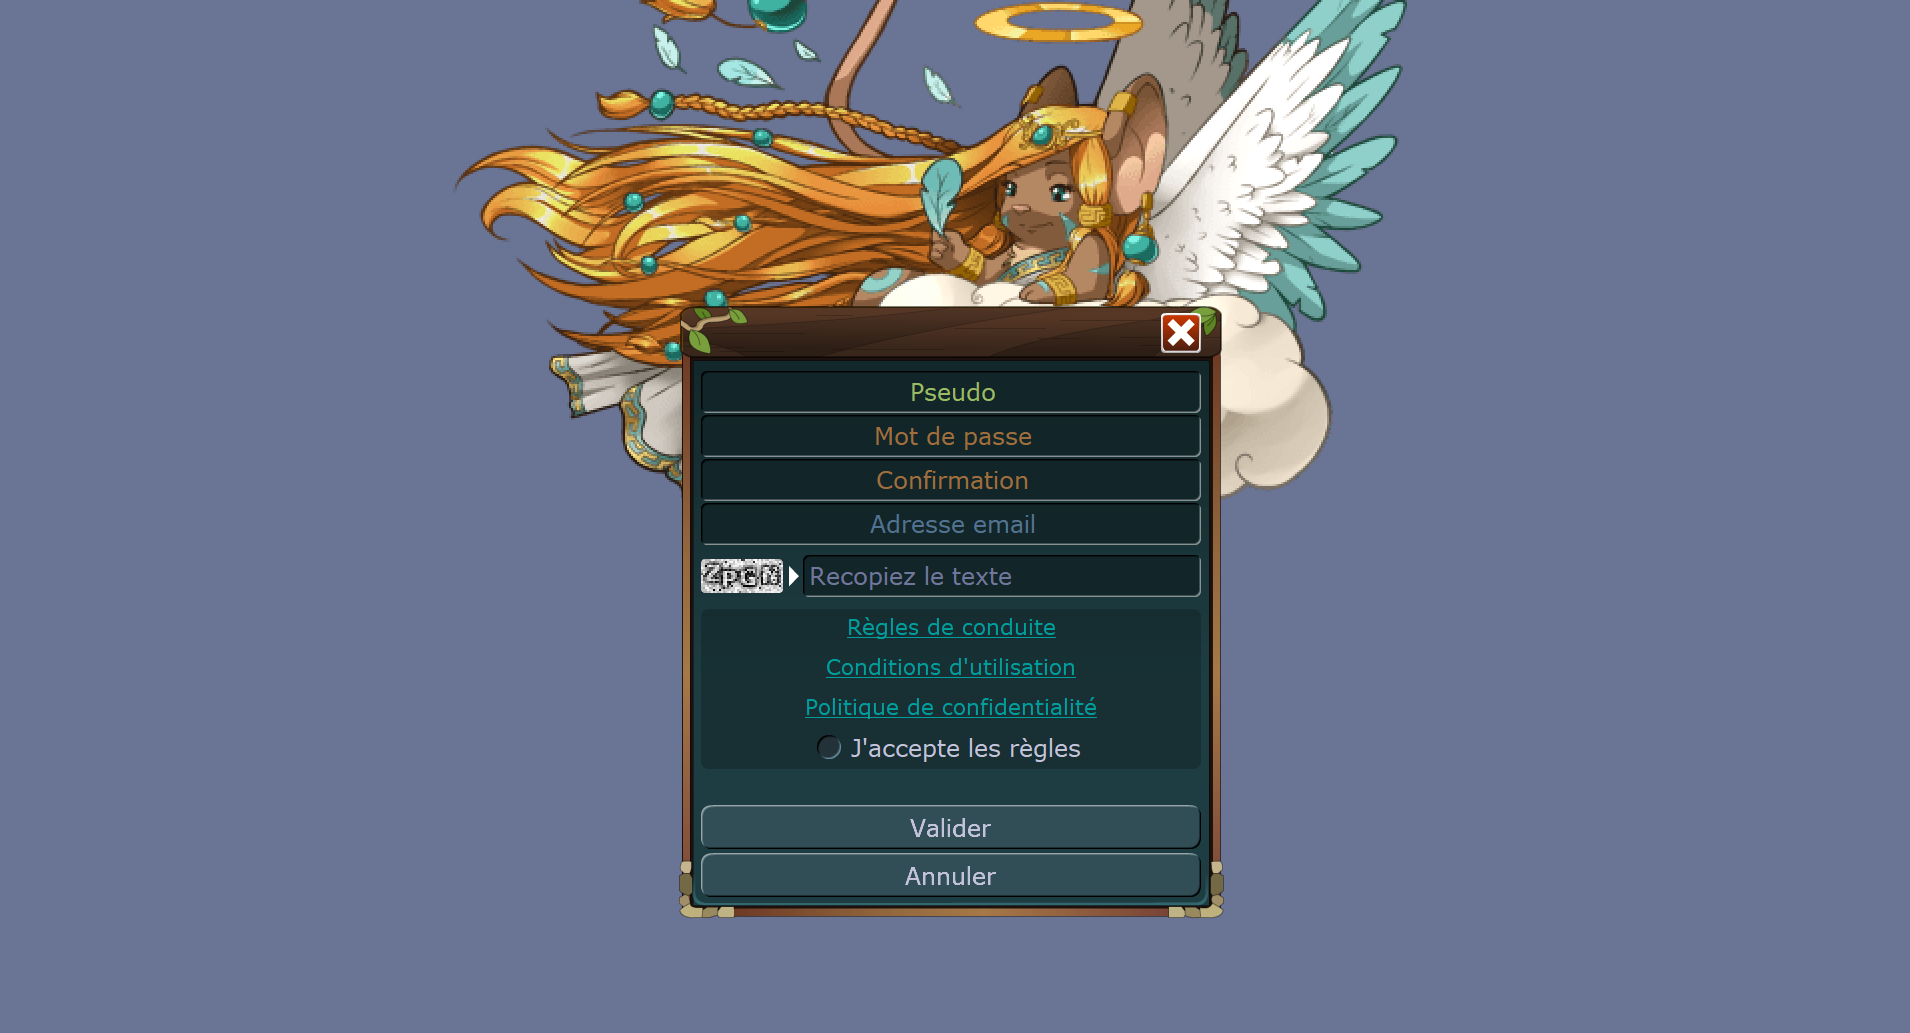CAPTCHA: (701, 558, 785, 593)
G: (738, 564, 757, 589)
N: (759, 564, 780, 588)
P: (721, 567, 739, 590)
Z: (704, 561, 721, 583)
